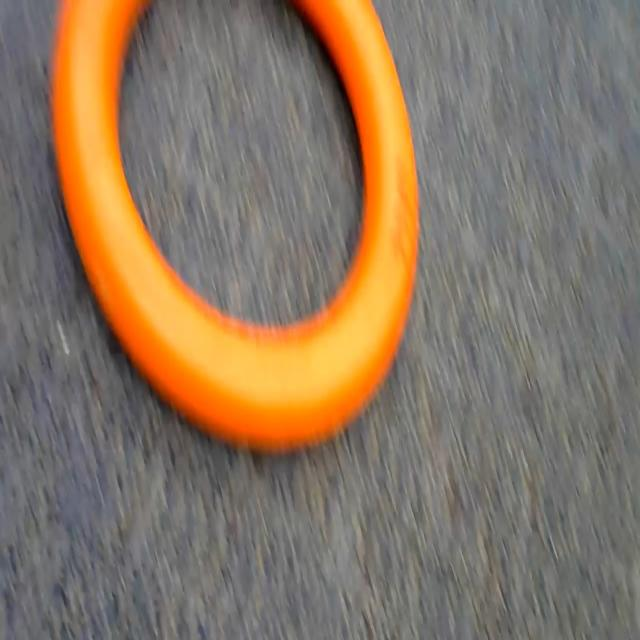note: (41, 0, 426, 489)
